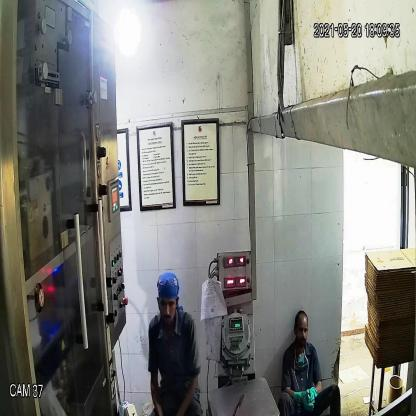no_goggles: (156, 292, 179, 313), (292, 322, 312, 338)
